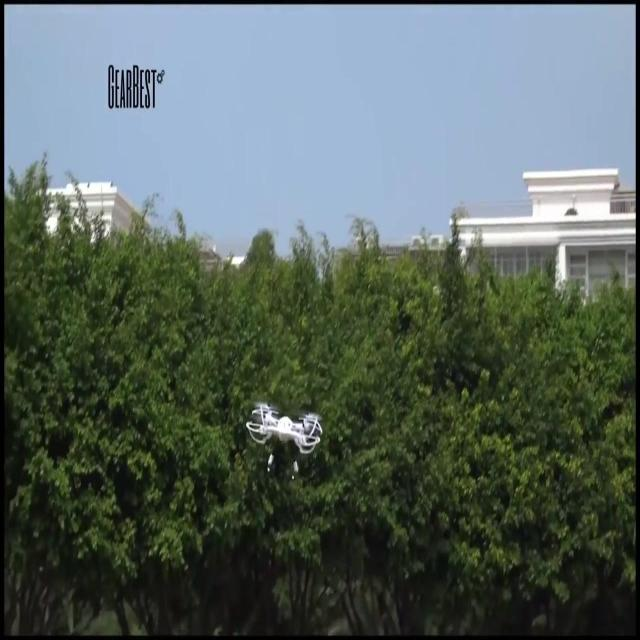drone: (247, 401, 324, 456)
